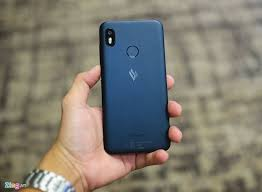vsmart: (95, 16, 172, 154)
